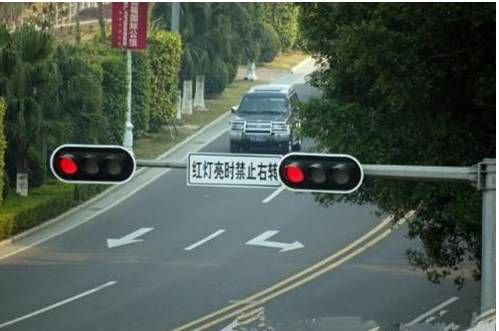red: (47, 143, 138, 187), (276, 152, 365, 195)
